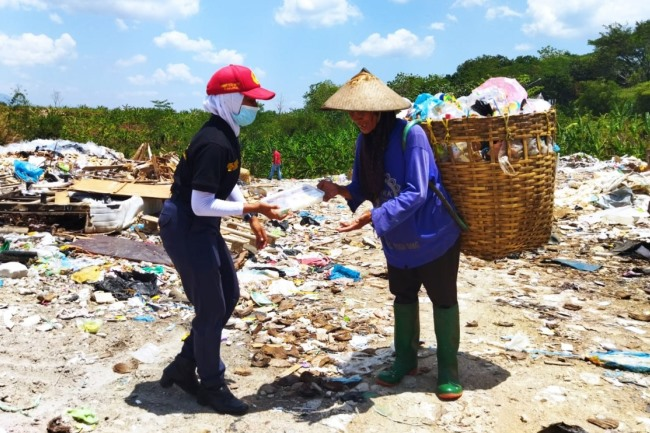pemulung: (299, 61, 575, 403)
